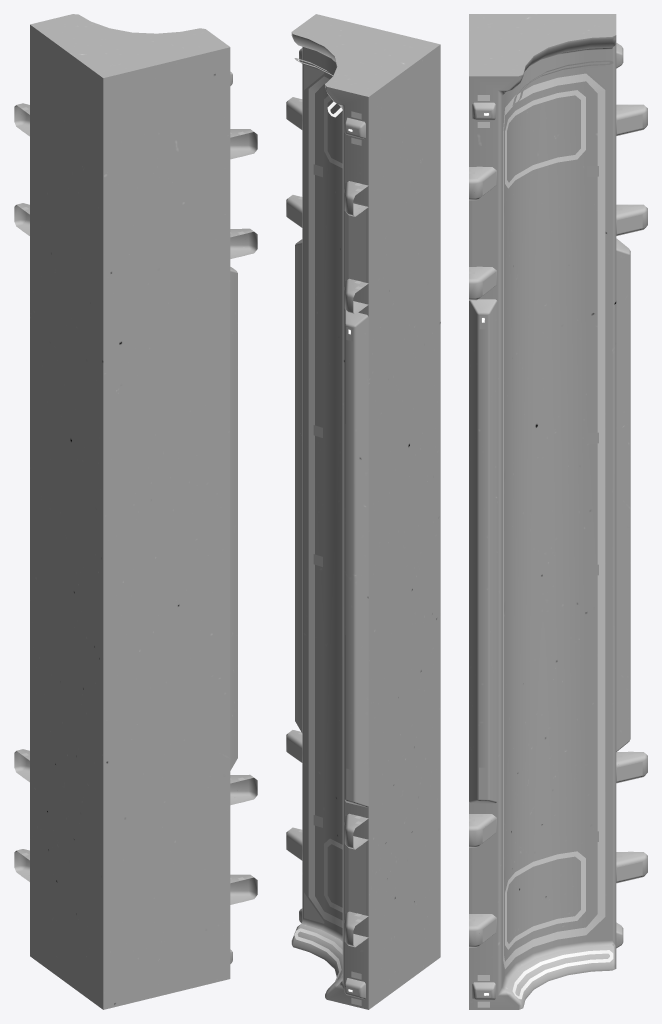
Rendered from SM_Modular_IndoorCorner_Merged.fbx.
3 renders of one model, left to right at view 1: azimuth 30°, elevation 25°; view 2: azimuth 150°, elevation 25°; view 3: azimuth 270°, elevation 25°, orthographic. The views are drawn at different scales.
Parts seen in each view (by area): view 1: SM_Modular_IndoorCorner_Merged_LOD0; view 2: SM_Modular_IndoorCorner_Merged_LOD0; view 3: SM_Modular_IndoorCorner_Merged_LOD0.
Part boxes in pixels (<box>): SM_Modular_IndoorCorner_Merged_LOD0: <box>14,14,257,1009</box>; SM_Modular_IndoorCorner_Merged_LOD0: <box>286,14,440,1009</box>; SM_Modular_IndoorCorner_Merged_LOD0: <box>469,14,647,1009</box>.
Bounding box in the file's own units: 60.73 × 60.73 × 350.
